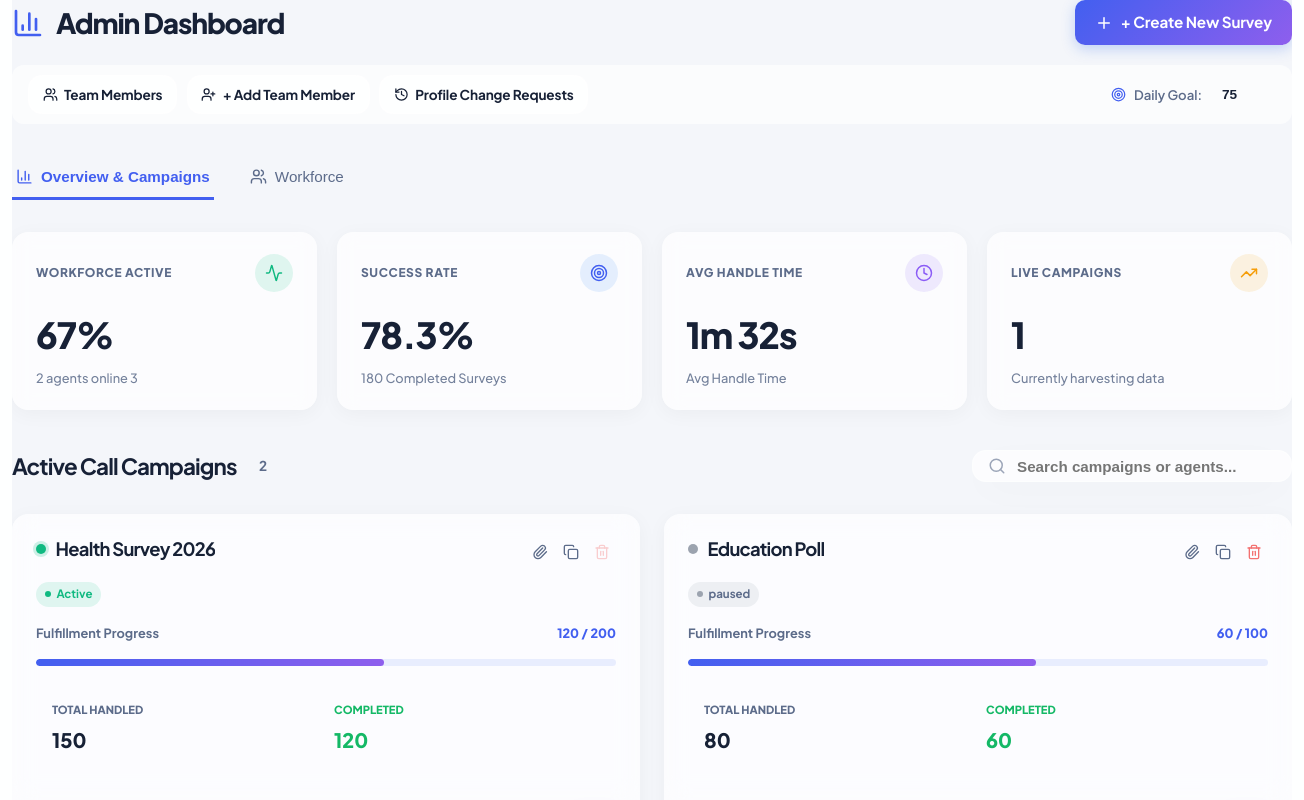
Test: AdminDashboard Page Tests › switches between Overview and Workforce tabs
Expected: the heading "Health Survey 2026" is shown, [56,538,215,560]
// Switch to Workforce tab
Click the button "Workforce".
click(297, 178)  # box [246,156,348,200]
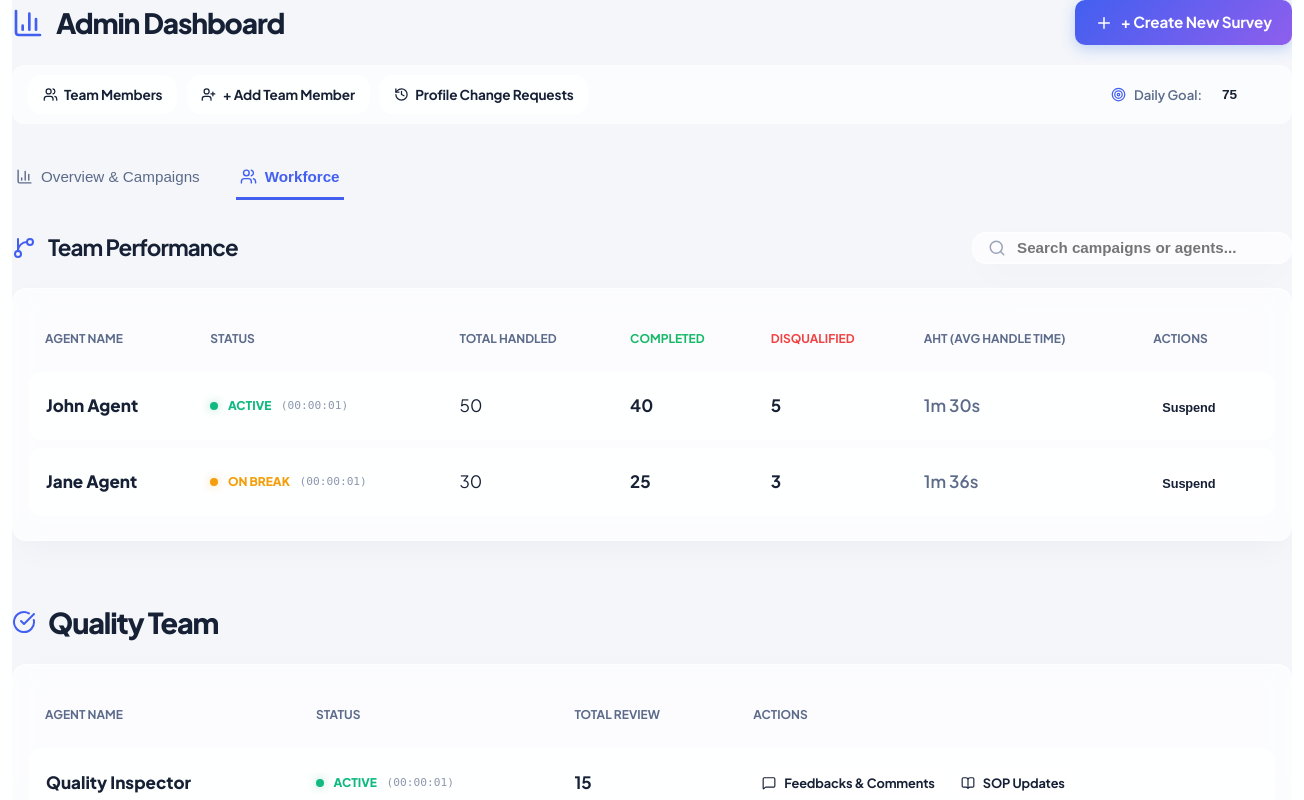
Expected: the text "John Agent" is shown, [29,372,194,440]
Expected: the text "Jane Agent" is shown, [29,448,194,516]
Expected: the heading "Health Survey 2026" is gone
